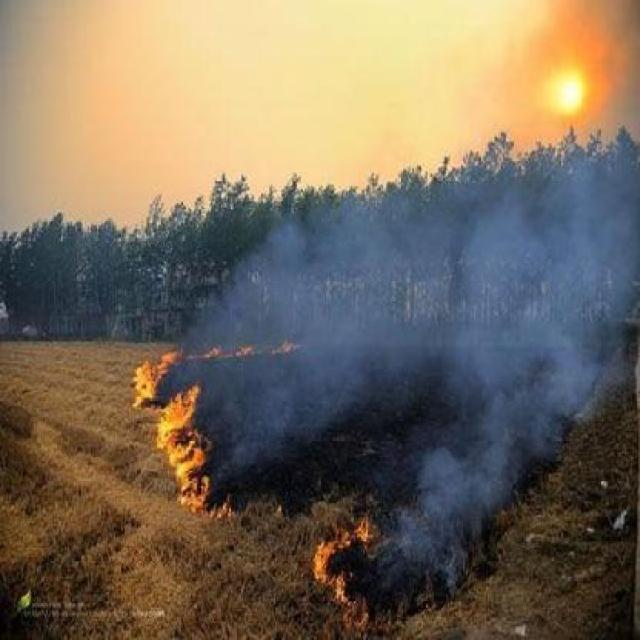Fire: (130, 341, 216, 524), (314, 497, 396, 640)
Smoke: (230, 216, 630, 520)
